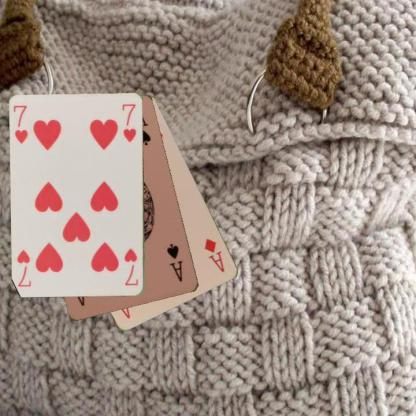7h: (12, 103, 30, 145), (122, 246, 139, 287)
Ad: (201, 236, 226, 274)
As: (164, 241, 184, 283)
